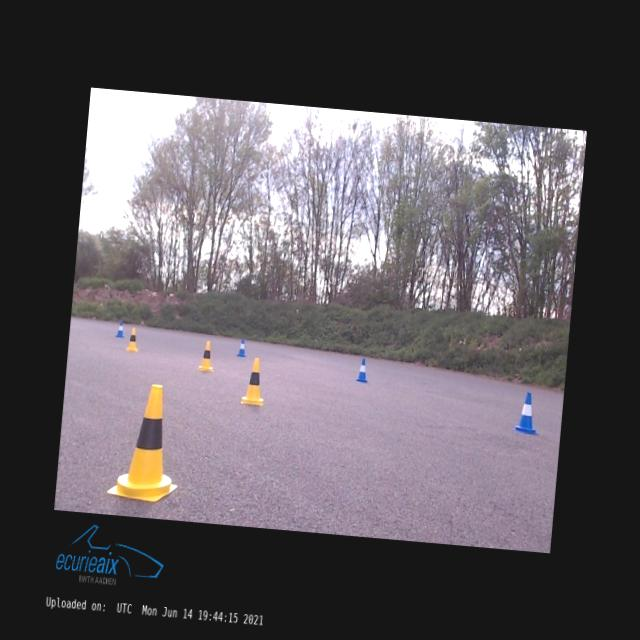blue_cone: (512, 392, 540, 435), (356, 358, 370, 382), (237, 338, 247, 356), (116, 321, 124, 336)
yellow_cone: (106, 382, 184, 504), (240, 356, 268, 406), (198, 340, 215, 371), (125, 327, 138, 351)
